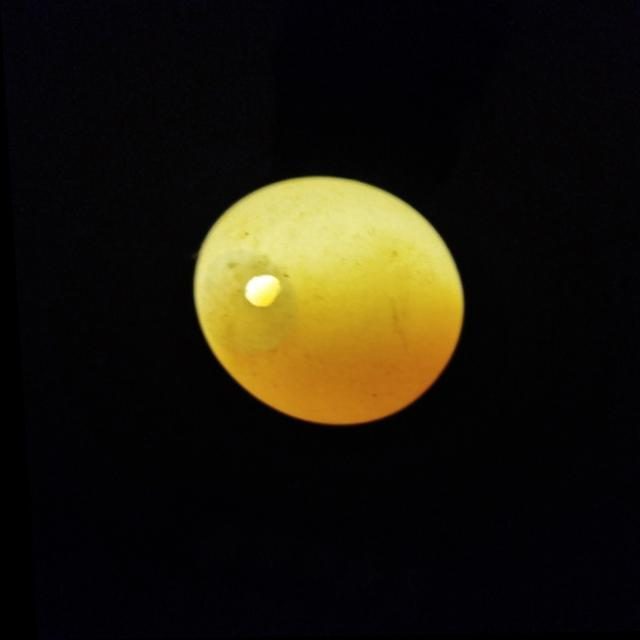Camara de Ar: (196, 251, 295, 358)
